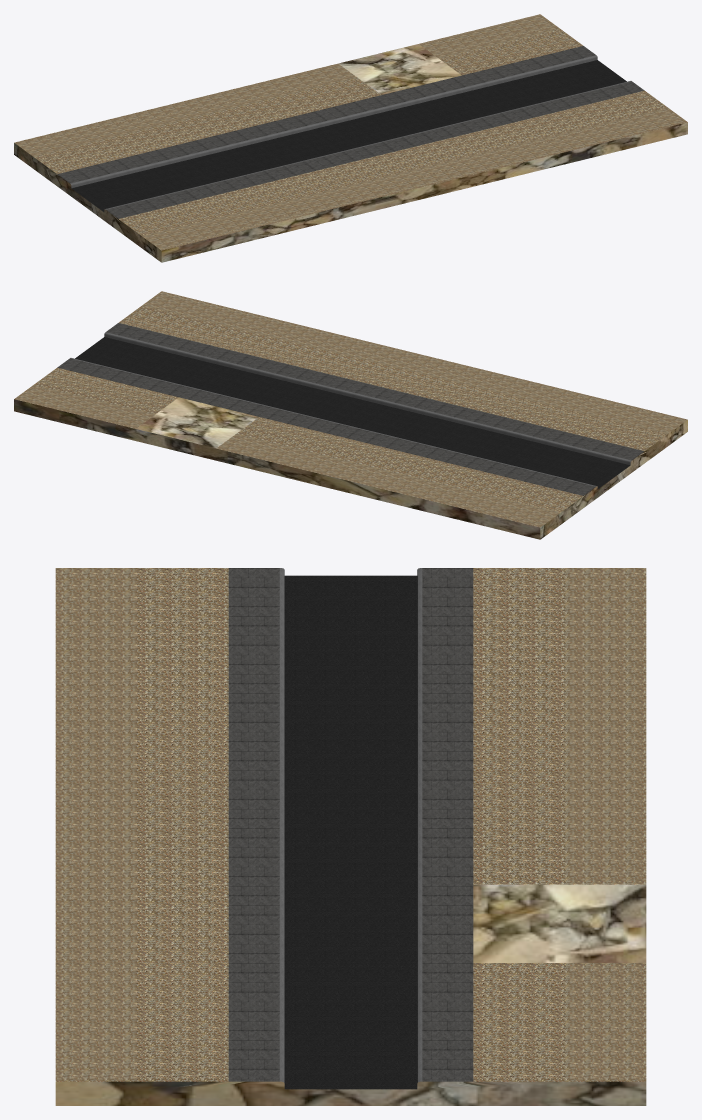
Rendered from WalkingTerrainv2.FBX.
The picture shows the model from 3 angles, top to bottom: view 1: azimuth 30°, elevation 25°; view 2: azimuth 150°, elevation 25°; view 3: azimuth 270°, elevation 25°; orthographic projection. The views are drawn at different scales.
Parts seen in each view (by area): view 1: Box001; view 2: Box001; view 3: Box001.
Part boxes in pixels (x1=…): Box001: x1=14, y1=14, x2=687, y2=262; Box001: x1=14, y1=291, x2=687, y2=539; Box001: x1=55, y1=568, x2=646, y2=1105.
Bounding box in the file's own units: 2011 × 44.24 × 977.
4 materials, 4 textured.
